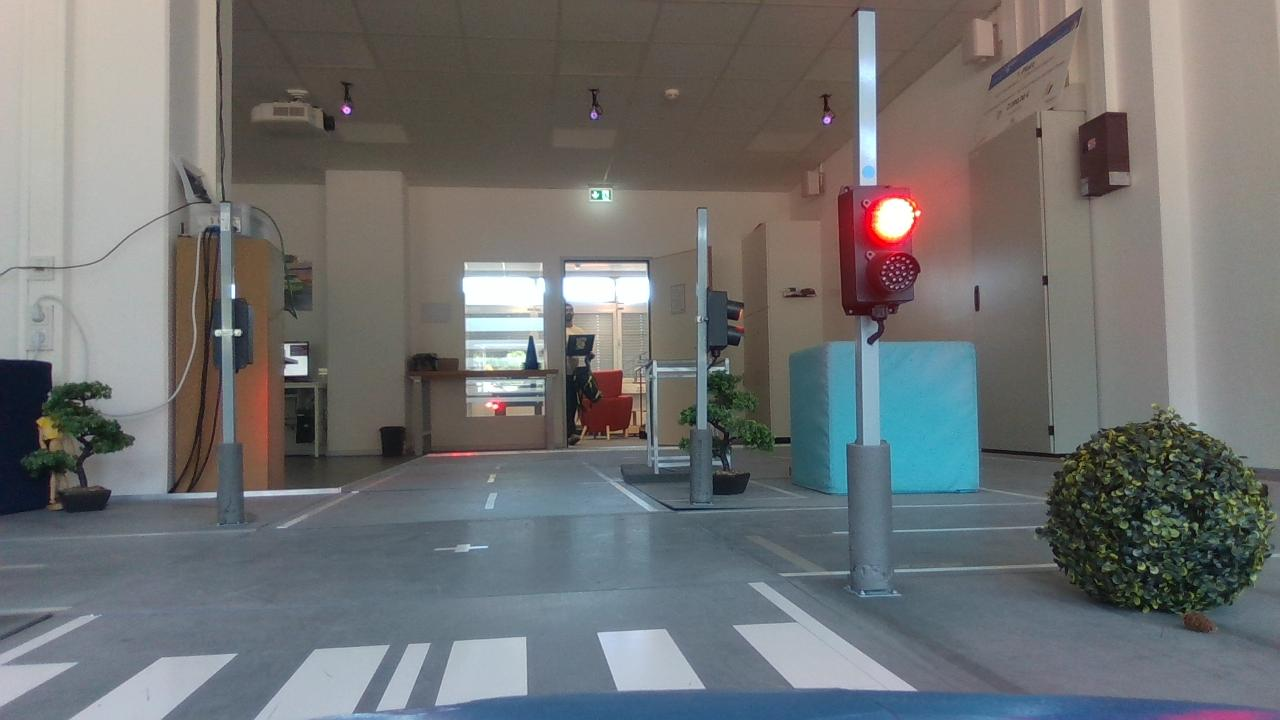traffic_light_red: (830, 177, 928, 319)
